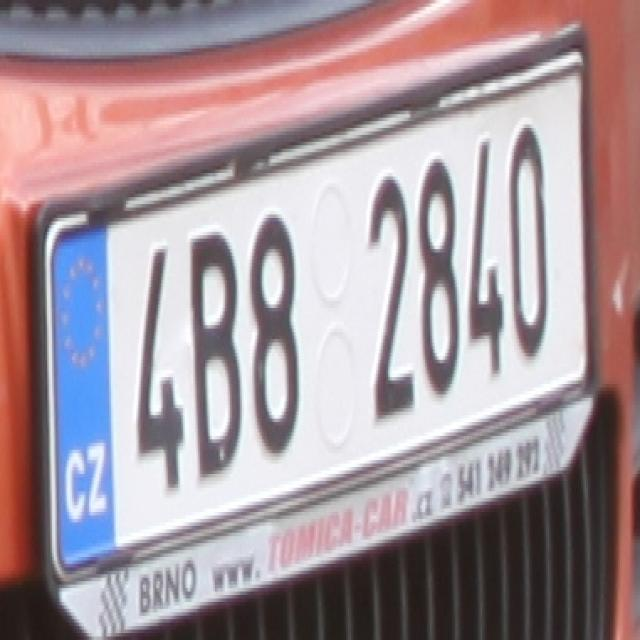0: (507, 118, 551, 370)
2: (363, 166, 415, 422)
4: (126, 238, 186, 502), (466, 128, 508, 384)
8: (248, 194, 296, 467), (415, 152, 464, 398)
B: (190, 228, 243, 481)
